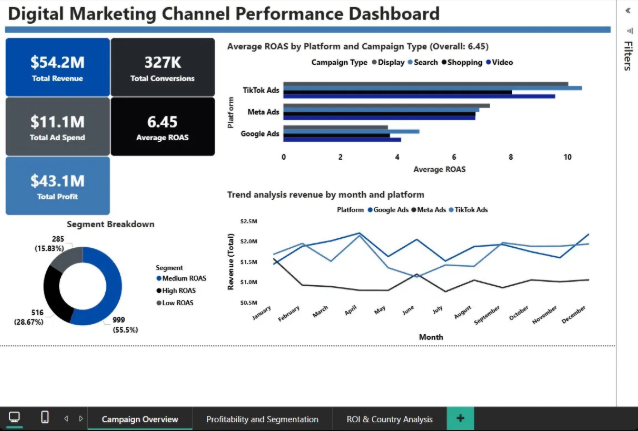

Layout of this report page (visuals, bound fields, positions):
{"tool":"powerbi","page":{"name":"Campaign Overview","canvas":[1280,720],"ordinal":0},"visuals":[{"type":"textbox","box":[12.4,0,1255.2,72.1],"z":0},{"type":"shape","box":[13.7,59.7,1255.2,12.4],"z":1000},{"type":"cardVisual","fields":{"Data":["Sum(digital marketing campaign_cleaned.revenue)"]},"box":[13,82.2,217.9,122.6],"z":2000},{"type":"cardVisual","fields":{"Data":["Sum(digital marketing campaign_cleaned.ad_spend)"]},"box":[13,204.9,217.9,122.6],"z":3000},{"type":"cardVisual","fields":{"Data":["Sum(digital marketing campaign_cleaned.conversions)"]},"box":[230.8,82.2,217.9,122.6],"z":4000},{"type":"cardVisual","fields":{"Data":["Avg(digital marketing campaign_cleaned.ROAS)"]},"box":[230.8,204.9,217.9,122.6],"z":5000},{"type":"cardVisual","fields":{"Data":["Sum(digital marketing campaign_cleaned.profit)"]},"box":[13,327.5,217.9,122.6],"z":6000},{"type":"clusteredBarChart","title":"Average ROAS by Platform and Campaign Type (Overall: 6.45)","fields":{"Category":["digital marketing campaign_cleaned.platform"],"Series":["digital marketing campaign_cleaned.campaign_type"],"Y":["Avg(digital marketing campaign_cleaned.ROAS)"]},"box":[465.2,82.1,791.2,291.1],"z":7000},{"type":"lineChart","title":"Trend analysis revenue by month and platform","fields":{"Category":["digital marketing campaign_cleaned.date.Variation.Date Hierarchy.Month"],"Series":["digital marketing campaign_cleaned.platform"],"Y":["Sum(digital marketing campaign_cleaned.revenue)"]},"box":[465.2,389.4,791.2,330.9],"z":8000},{"type":"donutChart","title":"Segment Breakdown","fields":{"Category":["digital marketing campaign_cleaned.segment"],"Y":["CountNonNull(digital marketing campaign_cleaned.segment)"]},"box":[13,450.1,435.7,268.4],"z":9000}]}

Visuals, with their boxes on the page's 1280x720 design canvas (x1, y1, x2, y2). These are canvas units, not pixel positions in the 638x431 screenshot, which may show the page scaled, cropped or inside an application window:
textbox: 12, 0, 1268, 72
shape: 14, 60, 1269, 72
cardVisual - Sum(digital marketing campaign_cleaned.revenue): 13, 82, 231, 205
cardVisual - Sum(digital marketing campaign_cleaned.ad_spend): 13, 205, 231, 328
cardVisual - Sum(digital marketing campaign_cleaned.conversions): 231, 82, 449, 205
cardVisual - Avg(digital marketing campaign_cleaned.ROAS): 231, 205, 449, 328
cardVisual - Sum(digital marketing campaign_cleaned.profit): 13, 328, 231, 450
"Average ROAS by Platform and Campaign Type (Overall: 6.45)" clusteredBarChart: 465, 82, 1256, 373
"Trend analysis revenue by month and platform" lineChart: 465, 389, 1256, 720
"Segment Breakdown" donutChart: 13, 450, 449, 718
